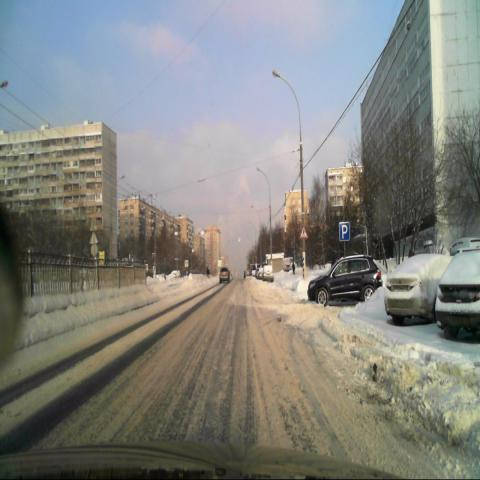6_4: (339, 222, 350, 242)
